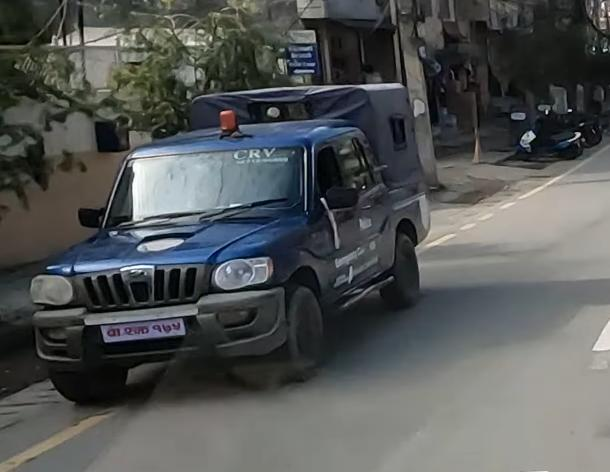police_vehicle: (23, 77, 442, 417)
